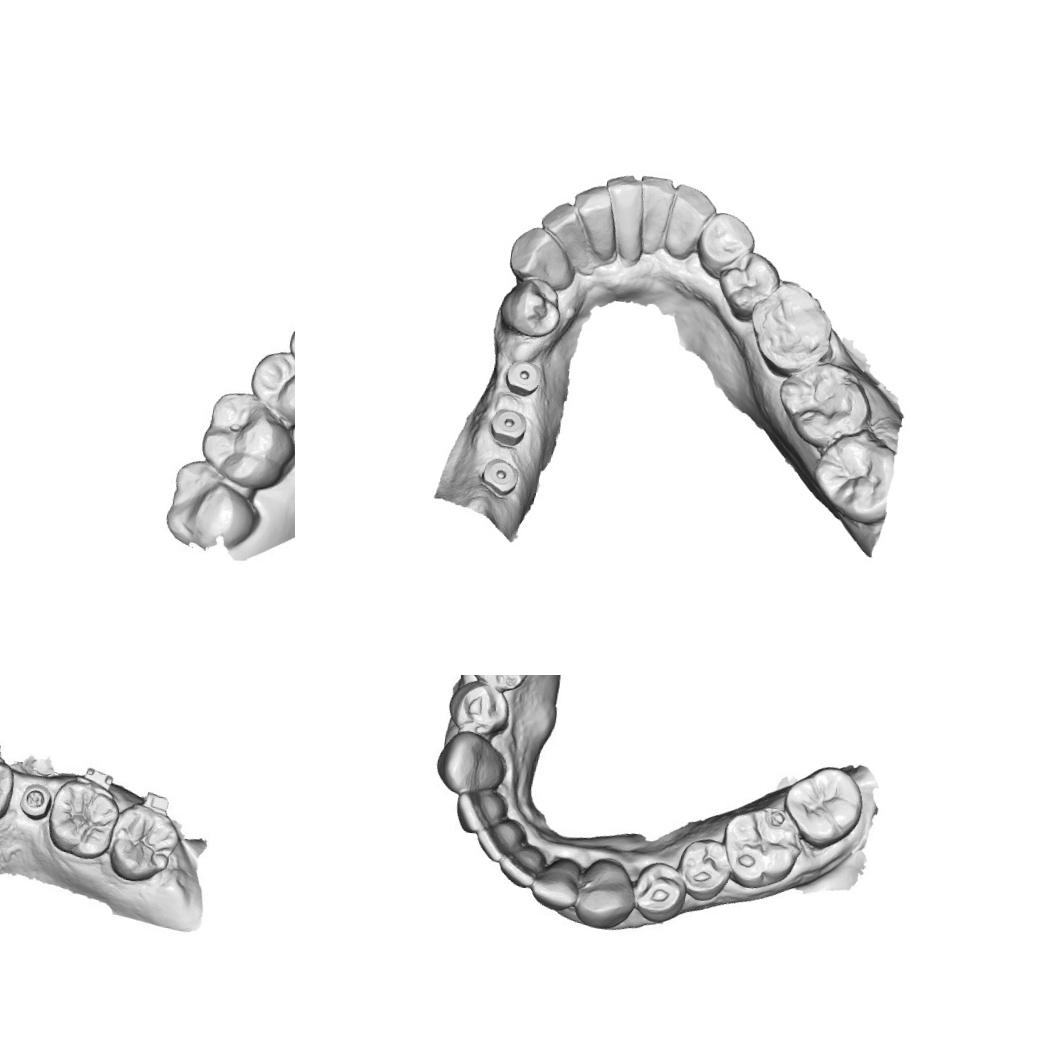canine: (502, 221, 584, 296), (432, 726, 511, 800), (572, 854, 640, 933), (661, 180, 719, 261)
implant: (476, 452, 523, 498), (501, 356, 548, 399), (487, 406, 532, 450), (13, 778, 56, 822)
incisor: (566, 179, 623, 244), (597, 168, 649, 233), (528, 853, 583, 914), (535, 197, 593, 252), (452, 786, 510, 838), (634, 169, 680, 232), (472, 814, 526, 866), (496, 840, 546, 890)
molar: (766, 353, 878, 456), (741, 272, 844, 384), (800, 421, 904, 530), (164, 458, 266, 556), (201, 393, 295, 485), (716, 800, 808, 894), (778, 760, 868, 854), (101, 800, 183, 888), (43, 774, 122, 864)
premolar: (711, 245, 788, 326), (494, 271, 570, 344), (688, 208, 761, 283), (673, 834, 736, 905), (445, 676, 514, 739), (243, 349, 295, 432), (629, 858, 691, 927), (0, 752, 19, 825), (465, 675, 535, 694)
